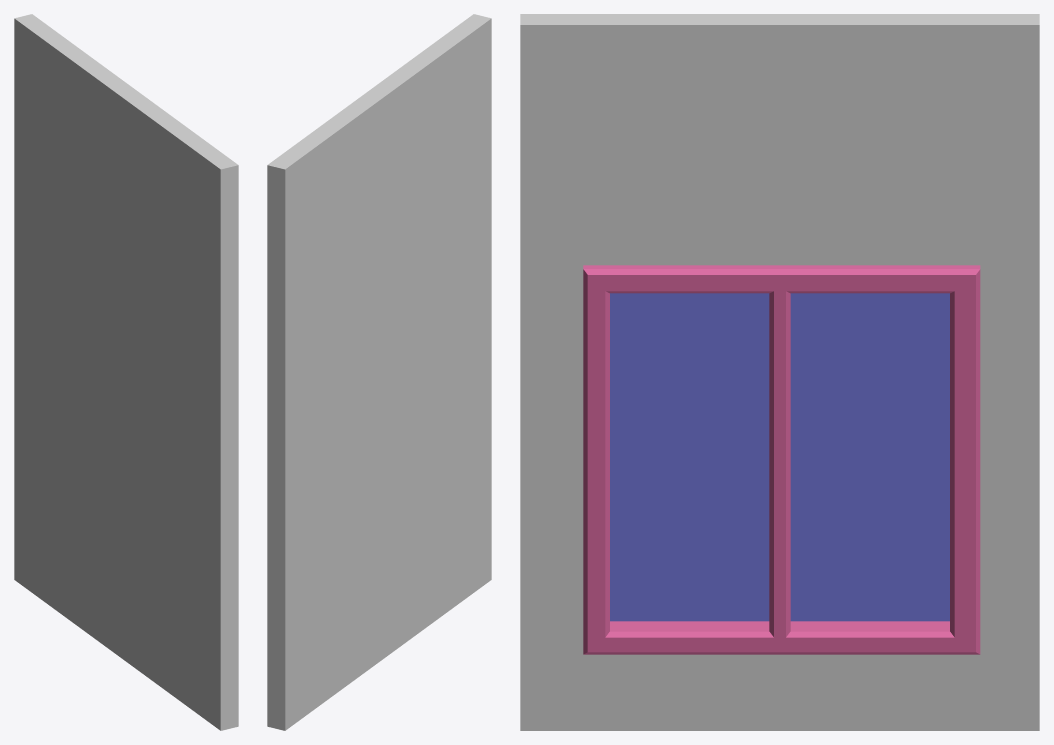
The model's file is windows.fbx.
The picture shows the model from 3 angles, left to right: view 1: azimuth 30°, elevation 25°; view 2: azimuth 150°, elevation 25°; view 3: azimuth 270°, elevation 25°; orthographic projection. The views are drawn at different scales.
Visible parts, largest first — view 1: Cube.001; view 2: Cube.001; view 3: Cube.001.
Boxes of the visible parts, x1=… form: Cube.001: x1=14, y1=14, x2=238, y2=730; Cube.001: x1=267, y1=14, x2=491, y2=730; Cube.001: x1=520, y1=14, x2=1039, y2=730.
Size of the model in its own units: 15.08 by 300 by 200.
